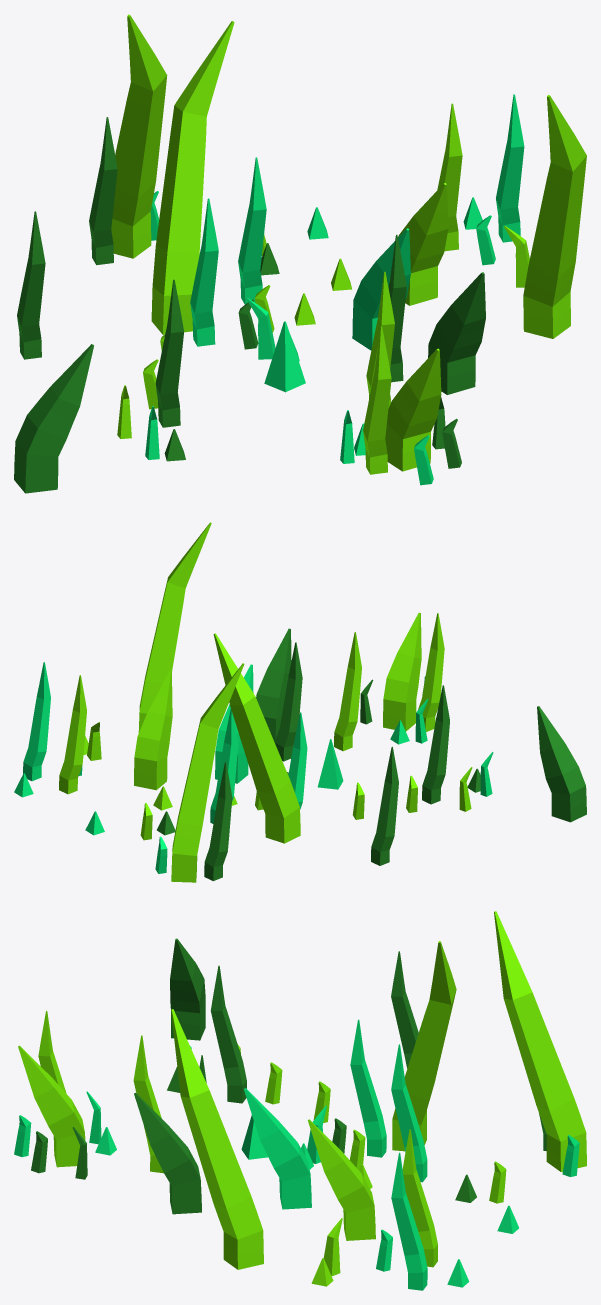
Rendered from GrassGroupV1.5.fbx.
3 renders of one model, top to bottom at view 1: azimuth 30°, elevation 25°; view 2: azimuth 150°, elevation 25°; view 3: azimuth 270°, elevation 25°, orthographic. The views are drawn at different scales.
Parts seen in each view (by area): view 1: Cube.009; view 2: Cube.009; view 3: Cube.009.
Part boxes in pixels (left/top/right/bottom): Cube.009: left=14, top=14, right=586, bottom=493; Cube.009: left=14, top=522, right=586, bottom=882; Cube.009: left=14, top=911, right=586, bottom=1290.
Bounding box in the file's own units: 2.23 × 0.9351 × 2.02.
